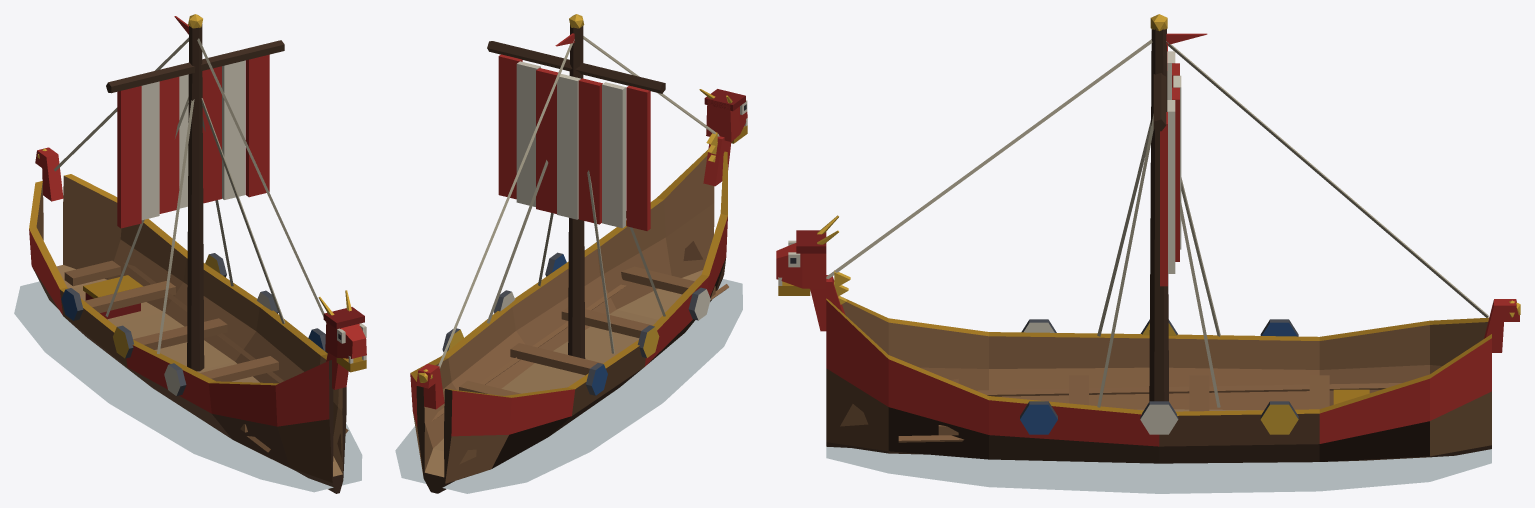
The model's file is Decor_VikingLonghouse_Longship.fbx.
The picture shows the model from 3 angles, left to right: view 1: azimuth 30°, elevation 25°; view 2: azimuth 150°, elevation 25°; view 3: azimuth 270°, elevation 25°; orthographic projection. The views are drawn at different scales.
Visible parts, largest first — view 1: Longship_Body; view 2: Longship_Body; view 3: Longship_Body.
Boxes of the visible parts, x1=… form: Longship_Body: x1=14, y1=14, x2=366, y2=493; Longship_Body: x1=395, y1=14, x2=747, y2=493; Longship_Body: x1=776, y1=14, x2=1520, y2=493.
Bounding box in the file's own units: 11.6 × 24 × 36.9.
